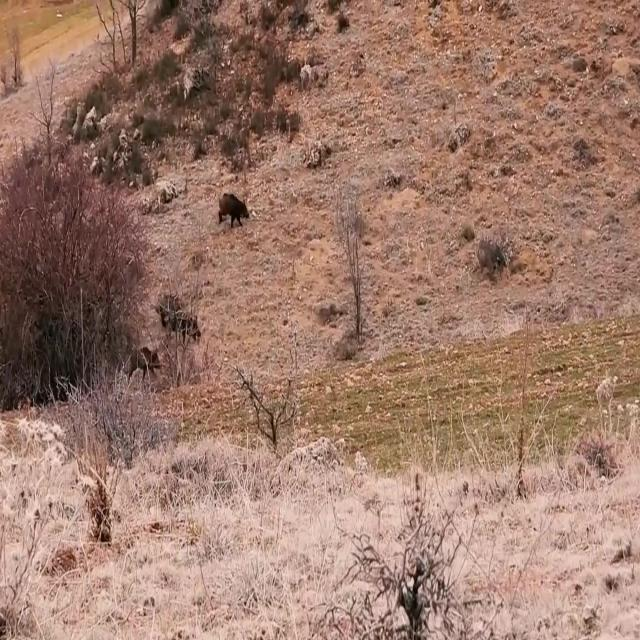pig: (210, 177, 273, 236), (114, 338, 164, 395)
